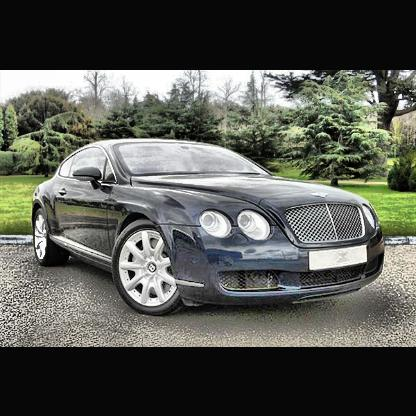Bentley Continental GT Coupe 2007: (31, 136, 390, 318)
